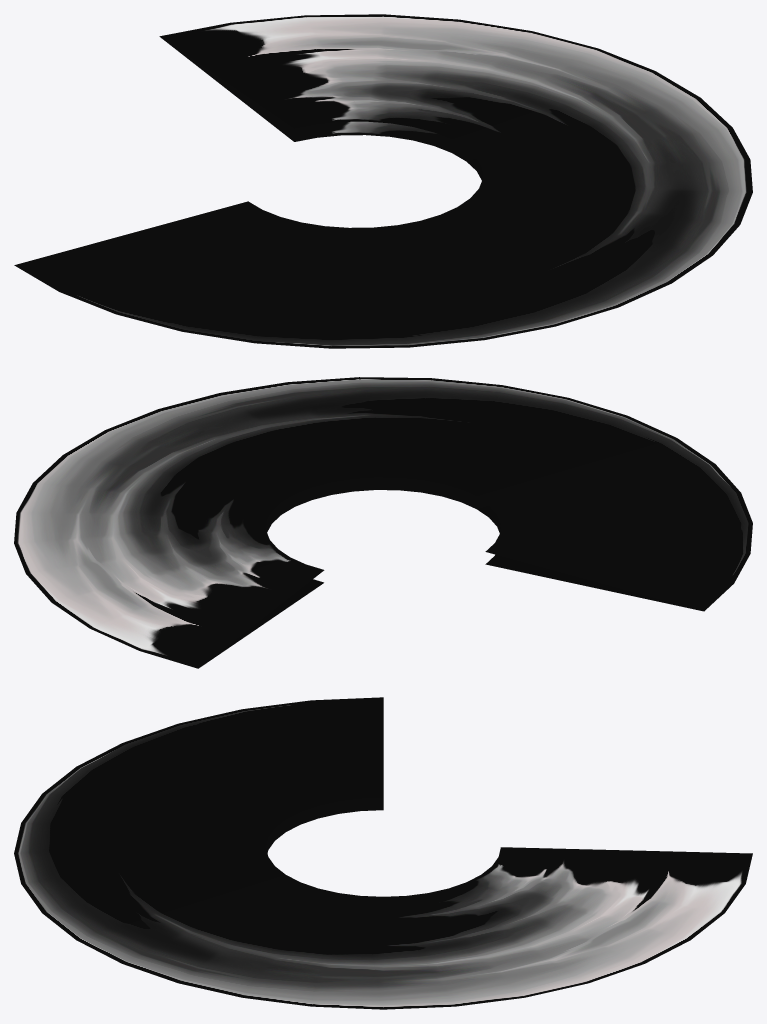
Rendered from Sword_Slash.fbx.
3 views of the same model, one above another, from view 1: azimuth 30°, elevation 25°; view 2: azimuth 150°, elevation 25°; view 3: azimuth 270°, elevation 25° (orthographic). The views are drawn at different scales.
Parts seen in each view (by area): view 1: Cylinder; view 2: Cylinder; view 3: Cylinder.
Part boxes in pixels (x1,y1,x2,y2): Cylinder: [14, 14, 752, 348]; Cylinder: [14, 377, 752, 668]; Cylinder: [14, 697, 752, 1009].
Size of the model in its own units: 14.28 by 0.2683 by 14.28.
